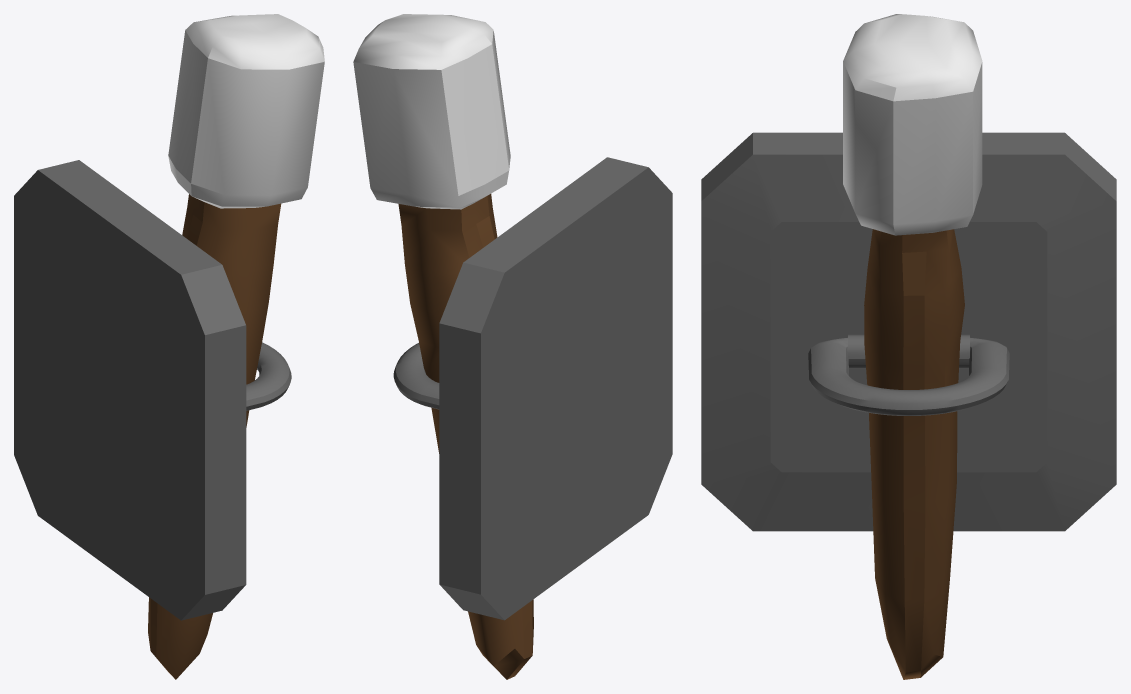
Rendered from WallTorch.fbx.
The picture shows the model from 3 angles, left to right: view 1: azimuth 30°, elevation 25°; view 2: azimuth 150°, elevation 25°; view 3: azimuth 270°, elevation 25°; orthographic projection. The views are drawn at different scales.
Parts seen in each view (by area): view 1: torch; view 2: torch; view 3: torch.
Boxes of the visible parts, left/top/right/bottom form: torch: left=14, top=14, right=324, bottom=679; torch: left=353, top=14, right=672, bottom=679; torch: left=701, top=14, right=1116, bottom=679.
Bounding box in the file's own units: 76.31 × 224 × 122.
